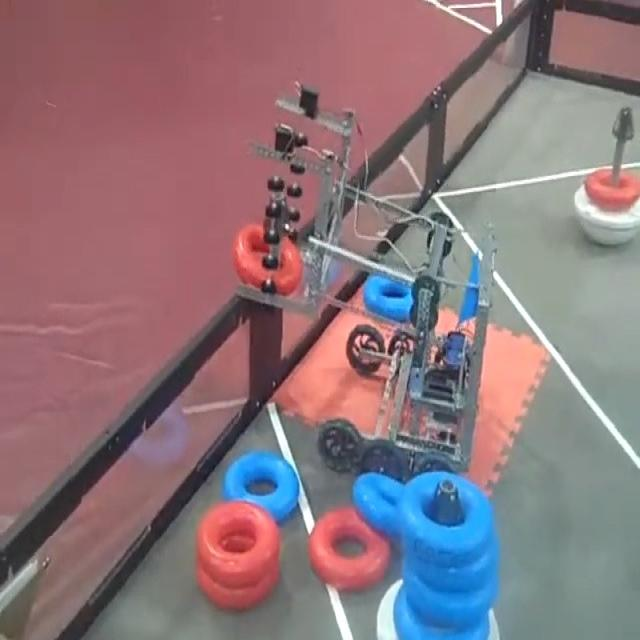Blue-Ring: (400, 472, 494, 566), (222, 450, 299, 522), (402, 573, 498, 629), (394, 585, 489, 640), (404, 537, 499, 591), (352, 473, 404, 537), (364, 275, 412, 322)
Red-Ring: (196, 505, 280, 588), (309, 507, 390, 590), (234, 223, 302, 294), (196, 563, 278, 609), (585, 170, 640, 211)
